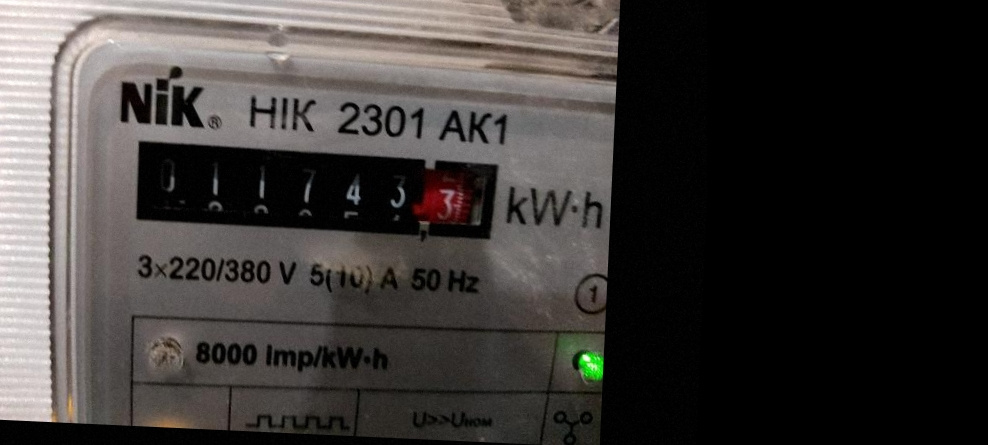0: (155, 154, 178, 194), (205, 156, 224, 197)
1: (251, 159, 269, 200)
3: (386, 168, 408, 212), (434, 183, 455, 222)
4: (341, 166, 363, 207)
7: (294, 161, 319, 206)
screen: (114, 126, 506, 250)
